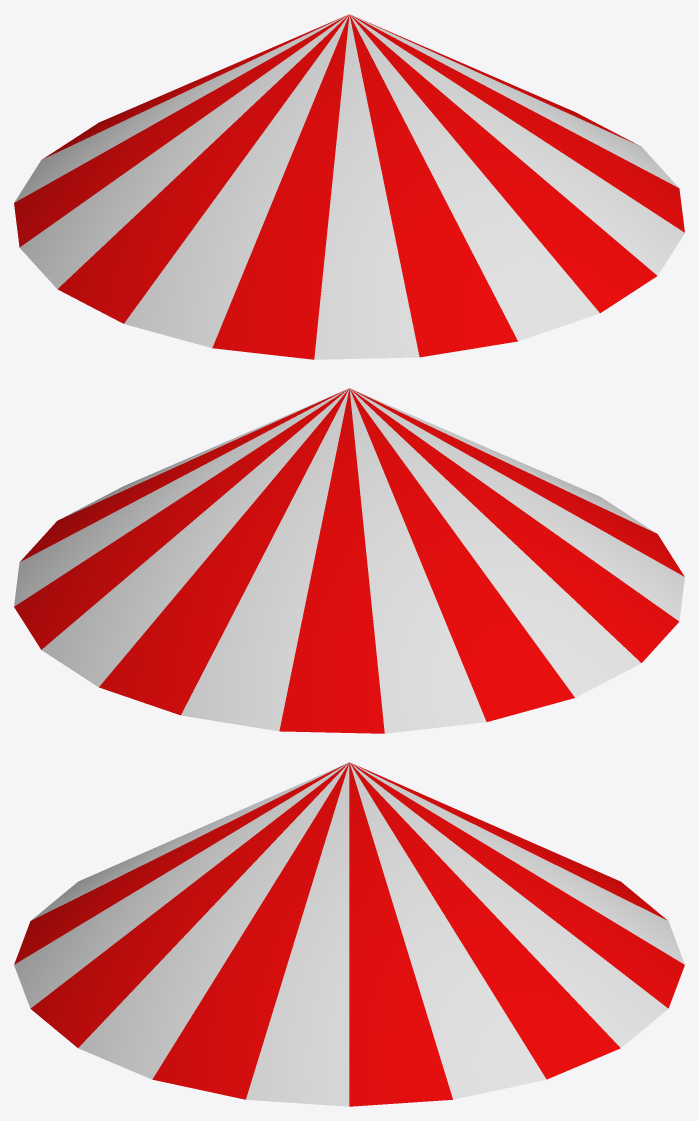
Rendered from Circus tent.fbx.
3 renders of one model, top to bottom at view 1: azimuth 30°, elevation 25°; view 2: azimuth 150°, elevation 25°; view 3: azimuth 270°, elevation 25°, orthographic.
Visible parts, largest first — view 1: pCone1; view 2: pCone1; view 3: pCone1.
Part boxes in pixels (x1,y1,x2,y2): pCone1: [14, 14, 684, 359]; pCone1: [14, 388, 684, 733]; pCone1: [14, 762, 684, 1106].
Size of the model in its own units: 600 by 200 by 600.
